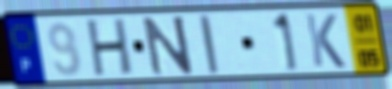1: (271, 12, 301, 73)
9: (46, 20, 84, 78)
H: (85, 16, 135, 79)
I: (196, 13, 222, 77)
K: (302, 12, 348, 70)
N: (139, 13, 196, 78)
